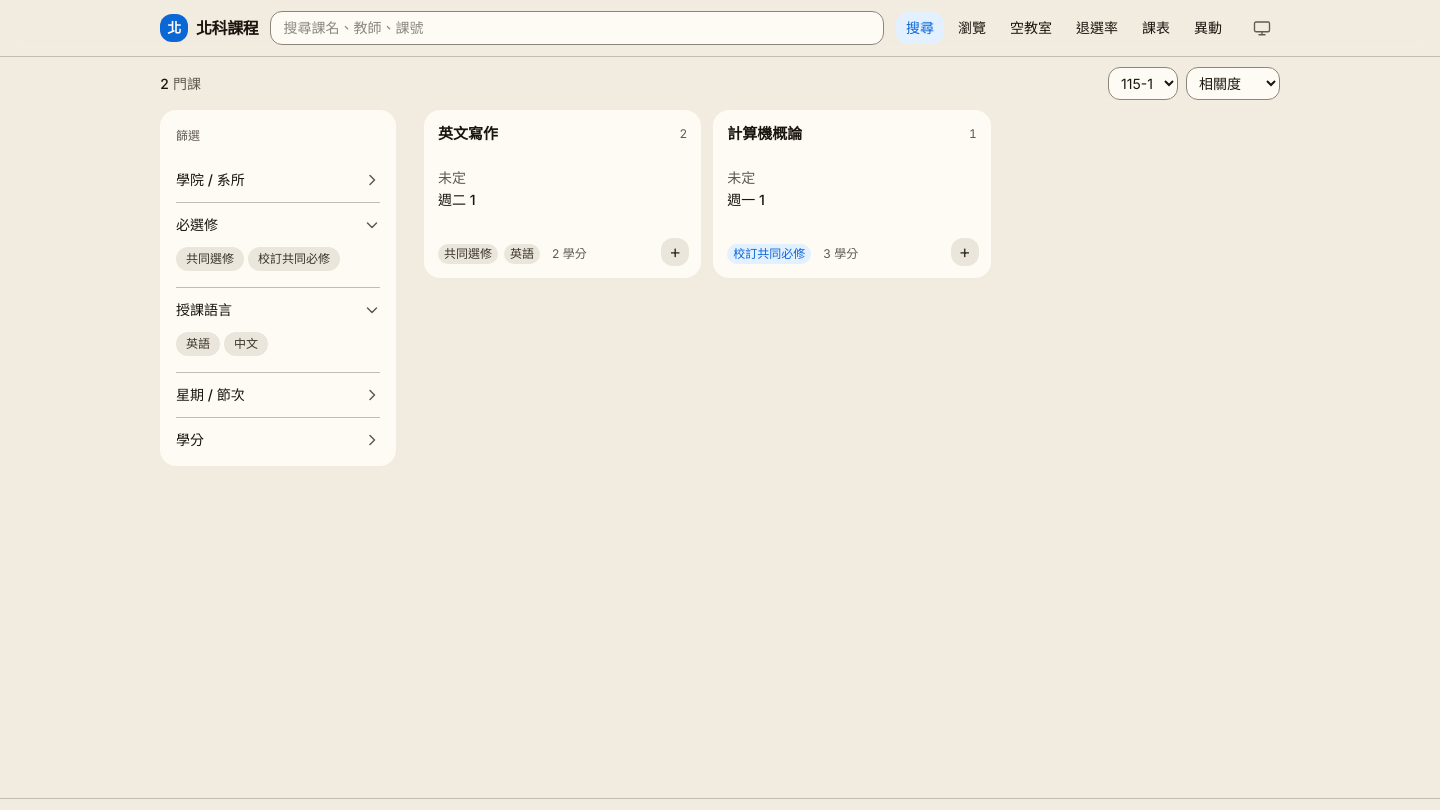
Test: /search › 點選篩選條件會寫進網址並縮小結果,清除則全部拿掉
Expected: the text "門課" is shown, [169,74,201,92]
Click the button "英語". click: point(198, 344)
box: [176,332,220,356]
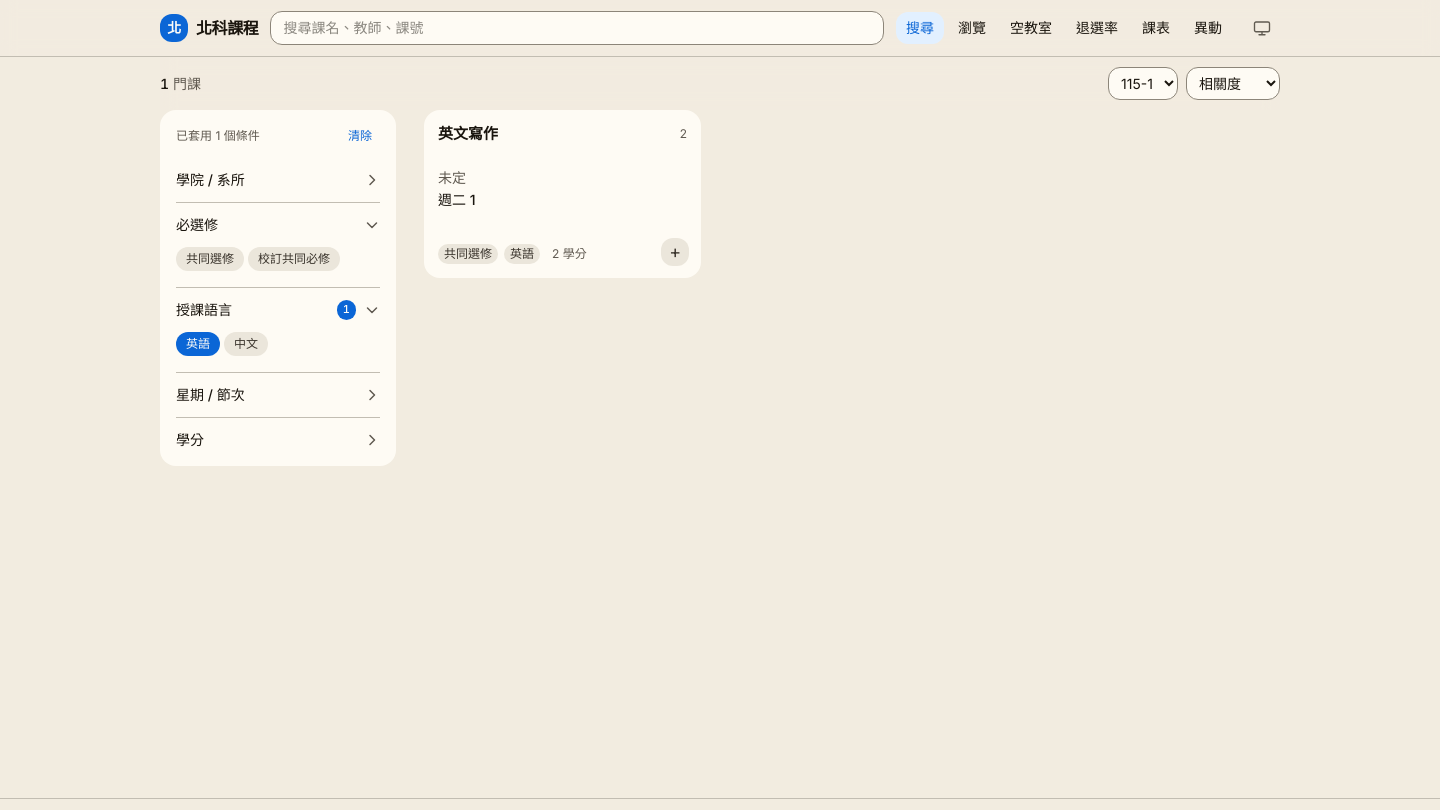
Now the element showing "1 門課" is shown, box [160,74,201,92]
Now the text "已套用 1 個條件" is shown, box [176,128,260,144]
Click the button "清除". click: point(360, 136)
box: [340,124,380,148]
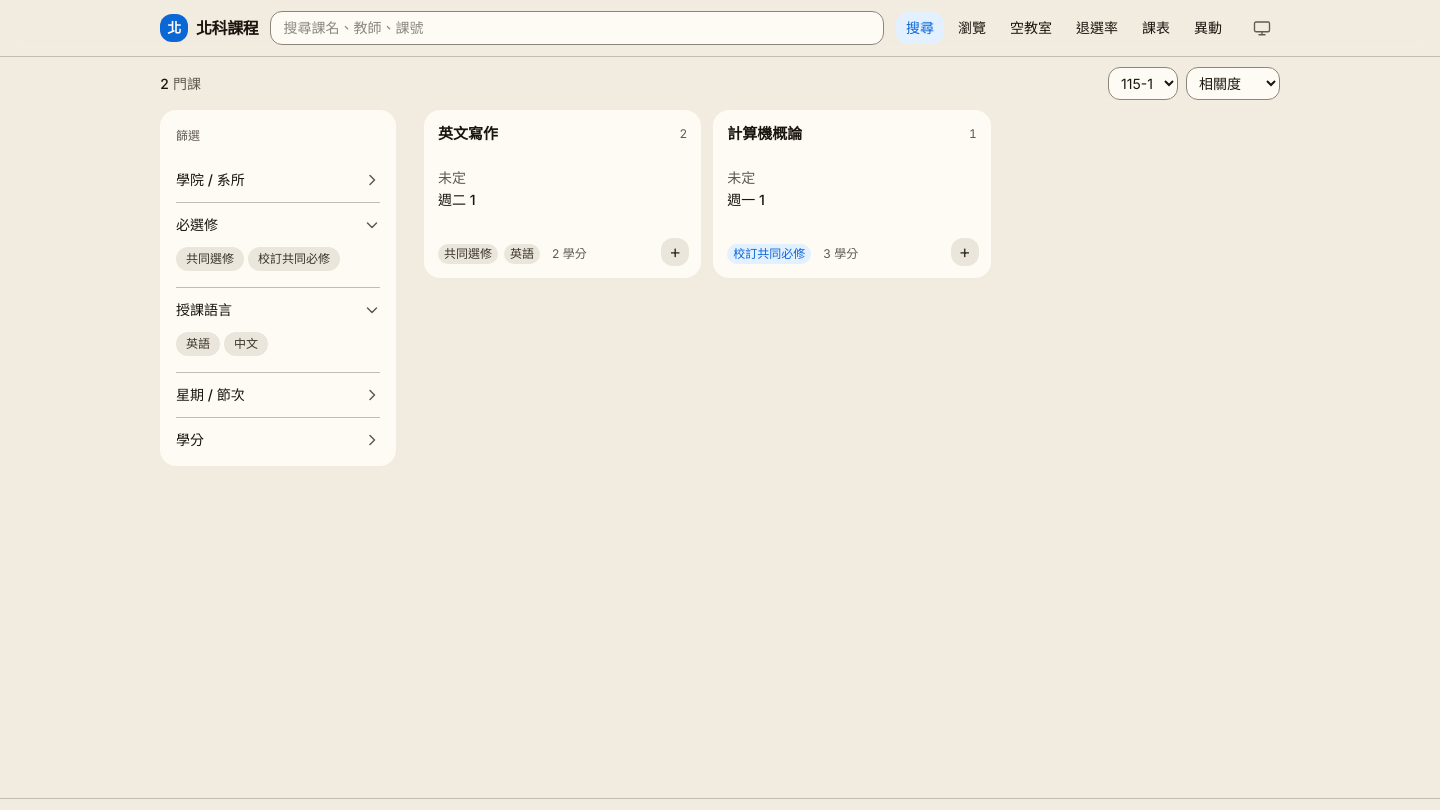
Now the element showing "2 門課" is shown, box [160,74,201,92]
